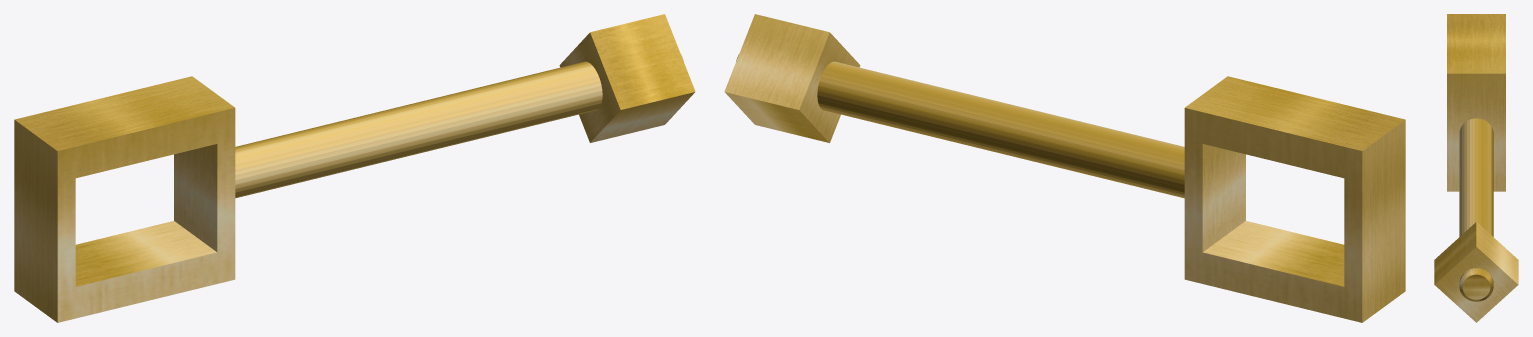
The model's file is brasskey.gltf.
The picture shows the model from 3 angles, left to right: view 1: azimuth 30°, elevation 25°; view 2: azimuth 150°, elevation 25°; view 3: azimuth 270°, elevation 25°; orthographic projection. The views are drawn at different scales.
Visible parts, largest first — view 1: Cube; view 2: Cube; view 3: Cube.
Part boxes in pixels (x1,y1,x2,y2): Cube: [14, 14, 695, 322]; Cube: [724, 14, 1405, 322]; Cube: [1434, 14, 1518, 322].
Size of the model in its own units: 7.19 by 1.85 by 1.19.
1 material, 1 textured.
